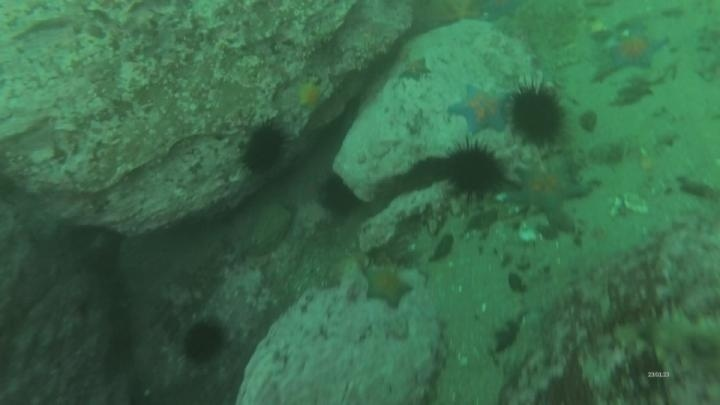echinus: (506, 80, 568, 147), (442, 141, 506, 200), (239, 120, 289, 175), (180, 318, 227, 365), (317, 173, 361, 219)
holothurian: (611, 307, 720, 372)
starfish: (506, 159, 589, 220), (446, 82, 514, 137), (607, 29, 669, 73), (359, 262, 415, 310), (290, 76, 329, 115), (394, 54, 433, 85)
